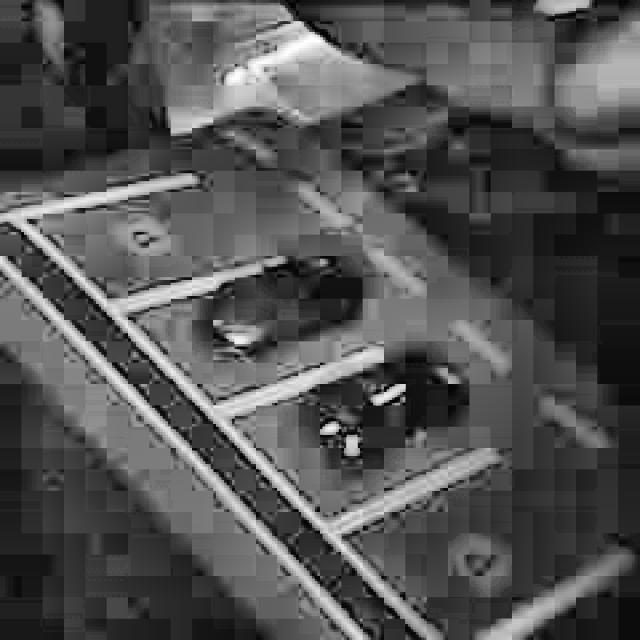car: (290, 347, 466, 476), (200, 243, 377, 360)
